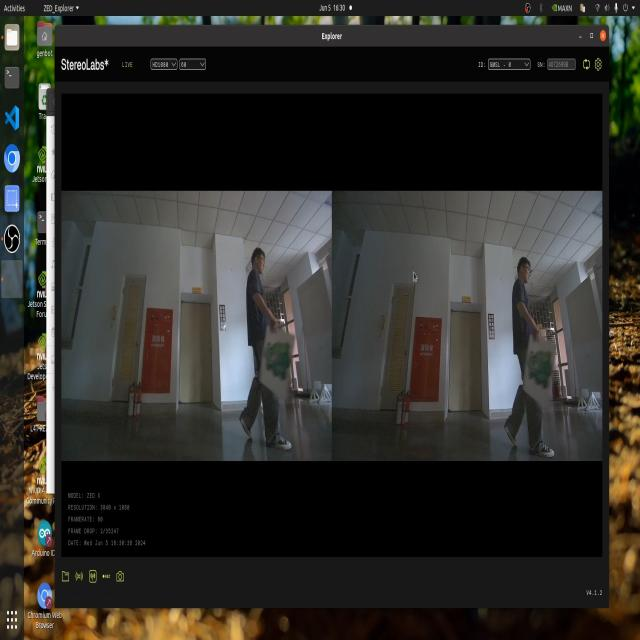green: (258, 329, 296, 381), (525, 334, 552, 391)
